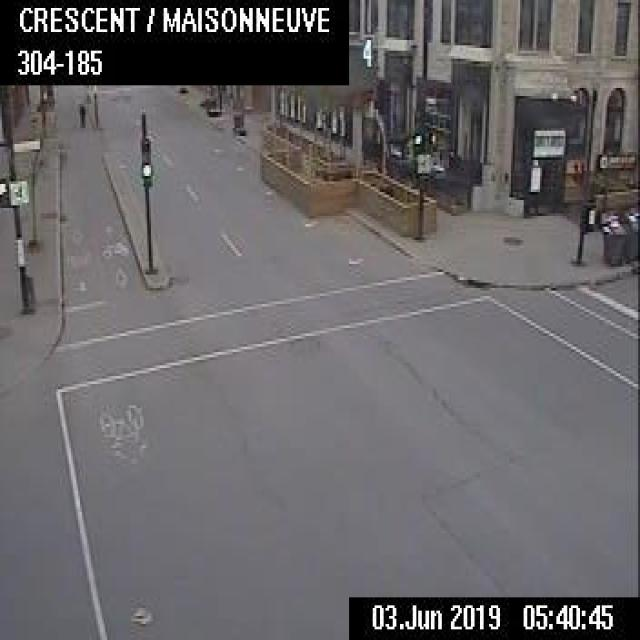cyclist: (76, 99, 85, 128)
